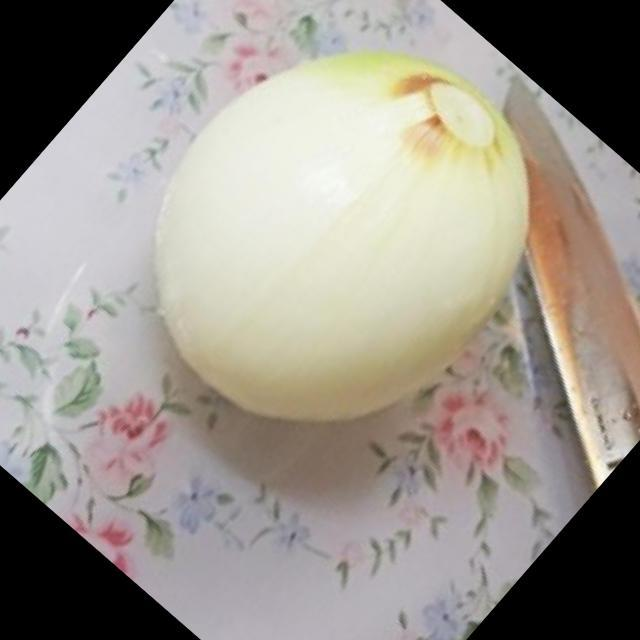Onion: (152, 51, 532, 420)
